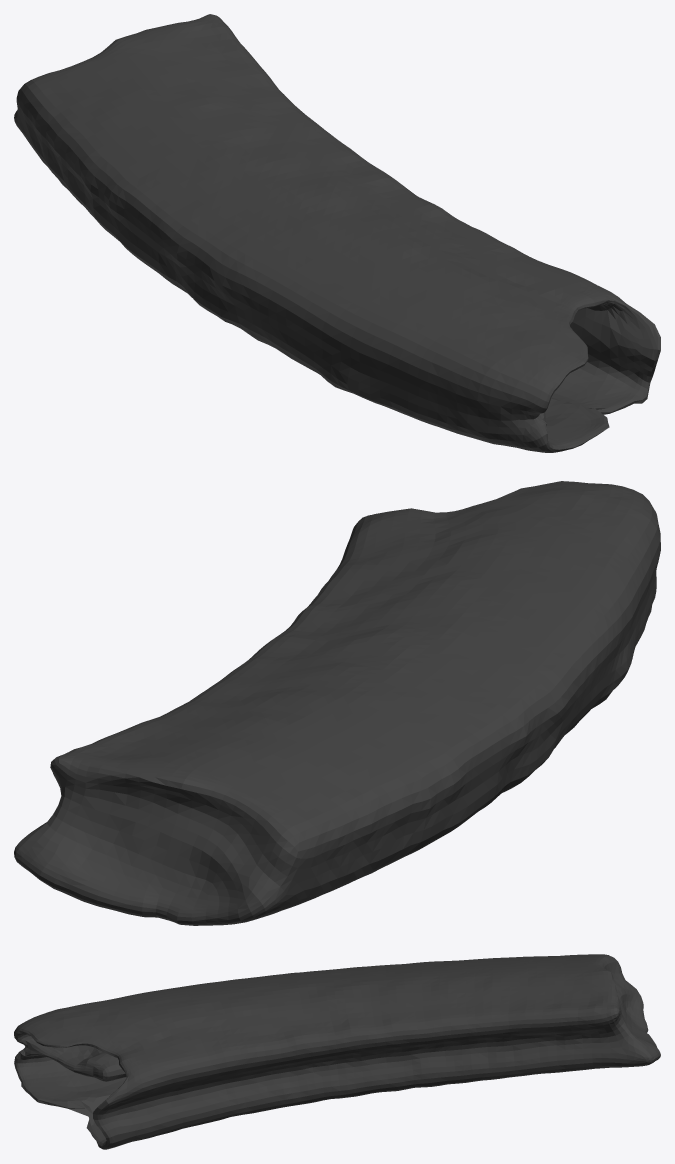
Rendered from tooth_rabbit_208_low.glb.
The picture shows the model from 3 angles, top to bottom: view 1: azimuth 30°, elevation 25°; view 2: azimuth 150°, elevation 25°; view 3: azimuth 270°, elevation 25°; orthographic projection. The views are drawn at different scales.
Parts seen in each view (by area): view 1: tooth_rabbit_208_low; view 2: tooth_rabbit_208_low; view 3: tooth_rabbit_208_low.
Boxes of the visible parts, <box> form: tooth_rabbit_208_low: <box>14,14,660,452</box>; tooth_rabbit_208_low: <box>14,481,660,925</box>; tooth_rabbit_208_low: <box>14,954,660,1149</box>.
Size of the model in its own units: 0.6318 by 0.302 by 1.55.
1 material, 1 textured.
